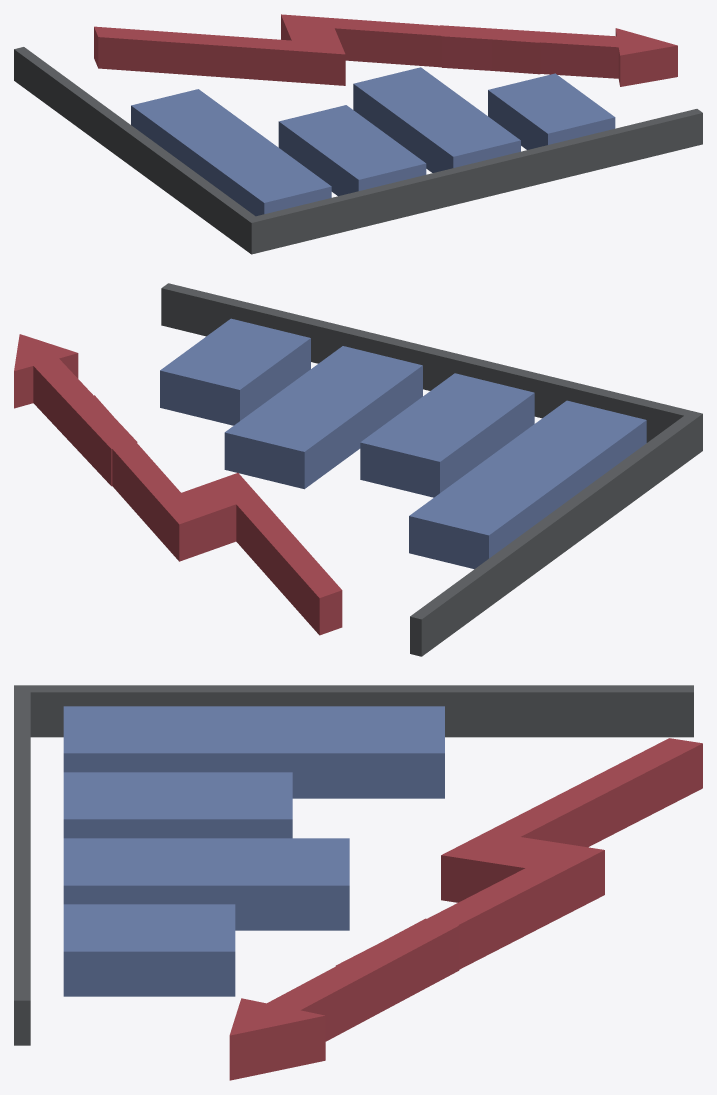
The model's file is DeclineG.gltf.
3 views of the same model, one above another, from view 1: azimuth 30°, elevation 25°; view 2: azimuth 150°, elevation 25°; view 3: azimuth 270°, elevation 25° (orthographic). The views are drawn at different scales.
Parts seen in each view (by area): view 1: Mesh_Mesh_head_geo001_lambert2SG001; view 2: Mesh_Mesh_head_geo001_lambert2SG001; view 3: Mesh_Mesh_head_geo001_lambert2SG001.
Part boxes in pixels (left/top/right/bottom): Mesh_Mesh_head_geo001_lambert2SG001: left=14, top=14, right=702, bottom=254; Mesh_Mesh_head_geo001_lambert2SG001: left=14, top=283, right=702, bottom=656; Mesh_Mesh_head_geo001_lambert2SG001: left=14, top=685, right=702, bottom=1080.
Size of the model in its own units: 50 by 3 by 41.55.
